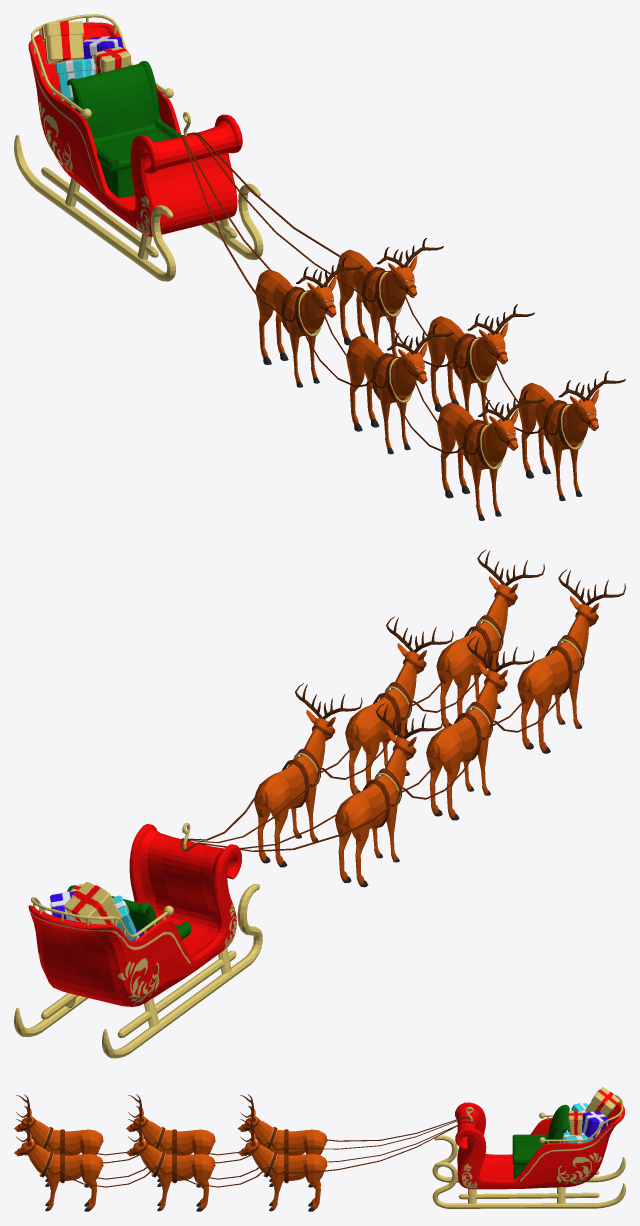
File: sleigh.obj
3 views of the same model, one above another, from view 1: azimuth 30°, elevation 25°; view 2: azimuth 150°, elevation 25°; view 3: azimuth 270°, elevation 25° (orthographic). The views are drawn at different scales.
Parts seen in each view (by area): view 1: sleigh.002_sleigh.001, Circle.027_Circle.037; view 2: Circle.027_Circle.037, sleigh.002_sleigh.001; view 3: Circle.027_Circle.037, sleigh.002_sleigh.001.
Part boxes in pixels (x1,y1,x2,y2): sleigh.002_sleigh.001: [14, 14, 263, 281]; Circle.027_Circle.037: [180, 132, 625, 520]; Circle.027_Circle.037: [180, 549, 625, 887]; sleigh.002_sleigh.001: [14, 823, 262, 1058]; Circle.027_Circle.037: [14, 1094, 473, 1211]; sleigh.002_sleigh.001: [432, 1087, 625, 1208].
Bounding box in the file's own units: 0.418 × 0.4448 × 2.46.
29 materials, 29 textured.
